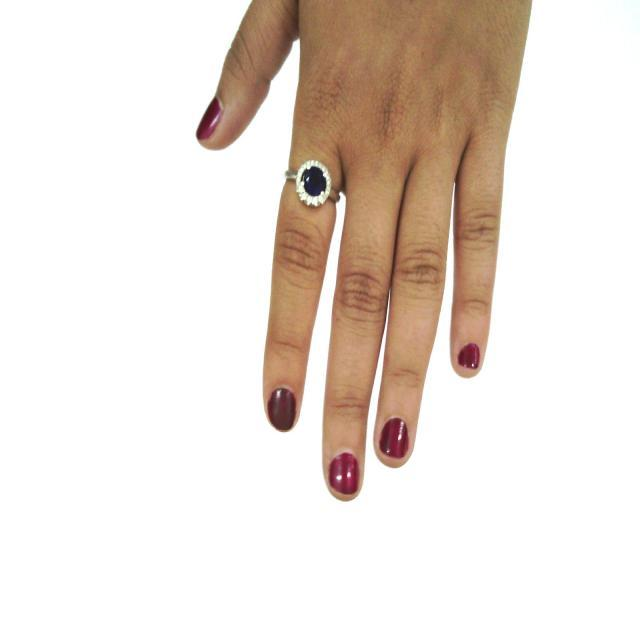Fingernail: (267, 385, 297, 431), (330, 451, 359, 495), (380, 416, 410, 458), (196, 97, 221, 139), (457, 343, 480, 369)
